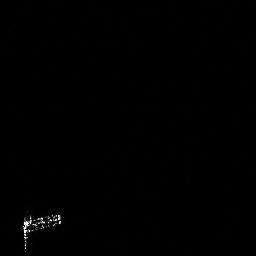ship: (23, 213, 63, 233)
